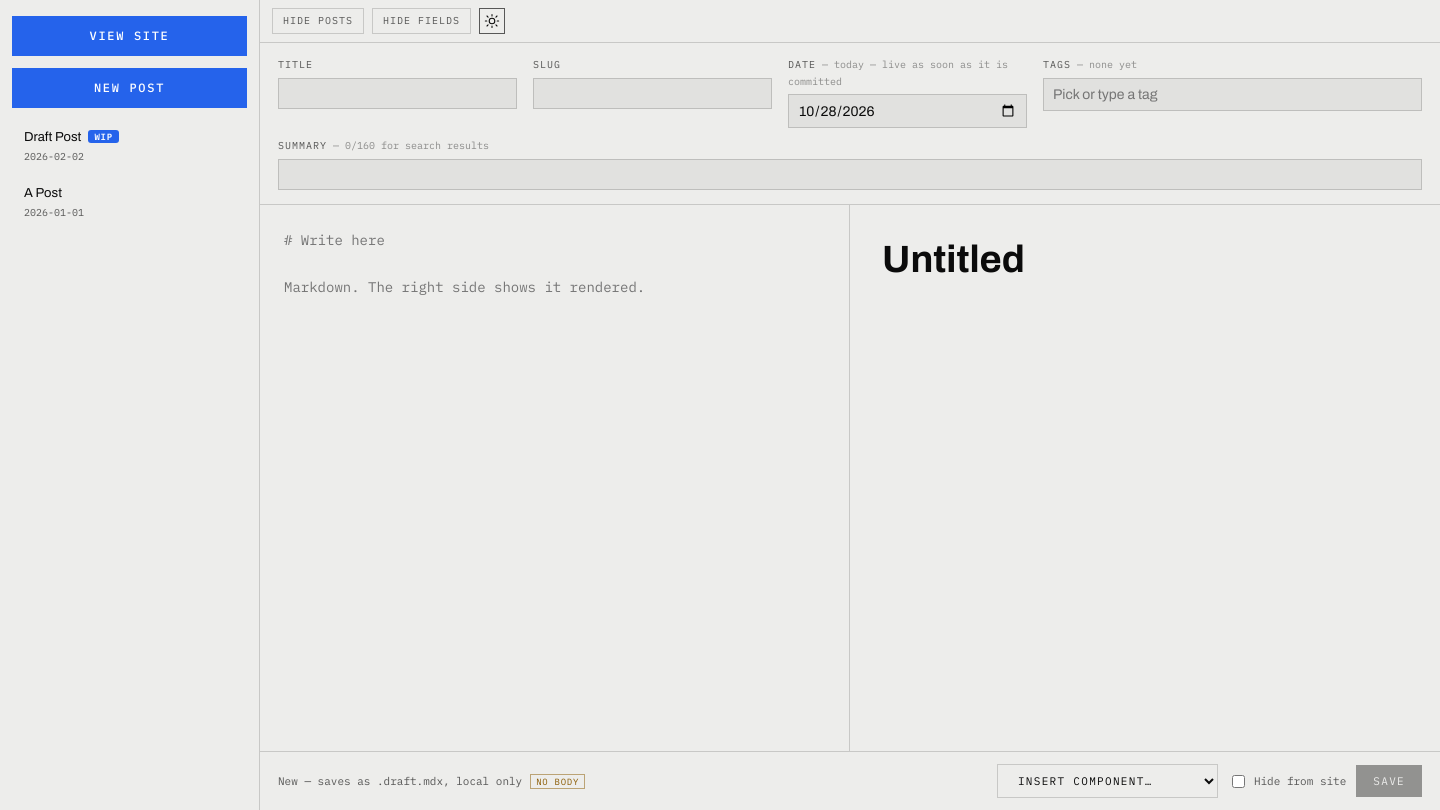
a new post › refuses a slug that already exists, including the local spelling
The width and height of the screenshot is (1440, 810).
Type "Draft Post" into the field labelled "Title" at (398, 93), box [278,78,517,108]
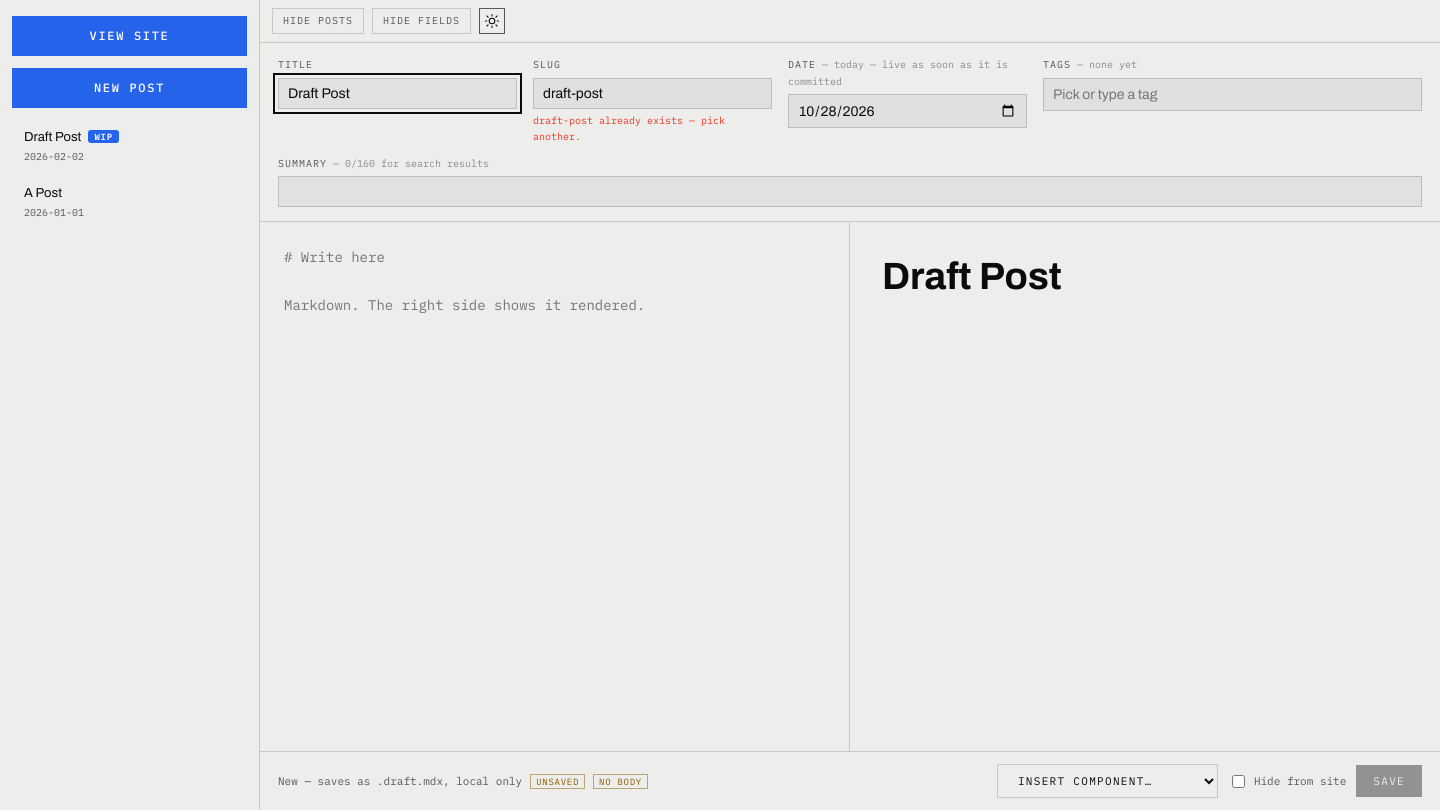
Check: the button "Save" is disabled, box [1356,765,1422,797]
Check: the text "draft-post already exists — pick another." is shown, box [533,114,725,143]
